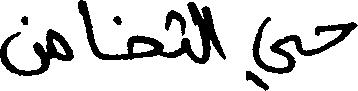X: (253, 12, 295, 90), (0, 11, 45, 80), (317, 17, 357, 58), (206, 1, 226, 66), (47, 24, 71, 74), (128, 30, 162, 64), (80, 0, 98, 62), (189, 0, 204, 68), (182, 0, 187, 59)
